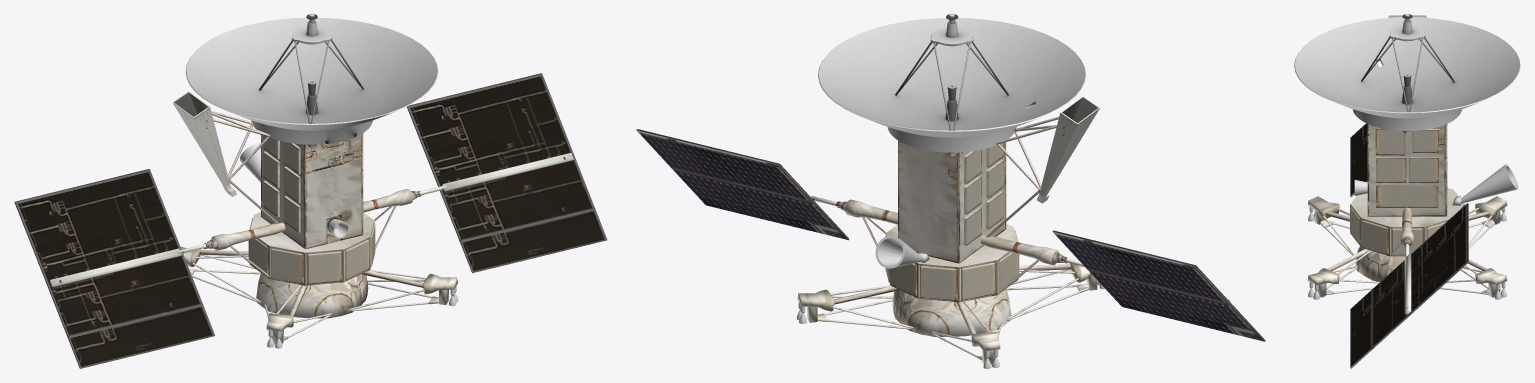
File: magellan.glb
3 renders of one model, left to right at view 1: azimuth 30°, elevation 25°; view 2: azimuth 150°, elevation 25°; view 3: azimuth 270°, elevation 25°, orthographic. The views are drawn at different scales.
Visible parts, largest first — view 1: tex_01, dish_etc, aluminum.001, aluminum; view 2: tex_01, dish_etc, shiny_panel, aluminum; view 3: tex_01, dish_etc, aluminum, aluminum.001.
Part boxes in pixels (<box>): tex_01: <box>14,73,607,368</box>; dish_etc: <box>185,14,438,148</box>; aluminum.001: <box>267,219,458,348</box>; aluminum: <box>240,143,260,182</box>; tex_01: <box>636,96,1265,364</box>; dish_etc: <box>818,14,1086,156</box>; shiny_panel: <box>637,130,1264,341</box>; aluminum: <box>875,235,922,268</box>; tex_01: <box>1307,15,1507,368</box>; dish_etc: <box>1294,14,1520,134</box>; aluminum: <box>1461,164,1518,203</box>; aluminum.001: <box>1308,180,1506,299</box>.
Bounding box in the file's own units: 8.9 × 4.53 × 3.7.
4 materials, 3 textured.
